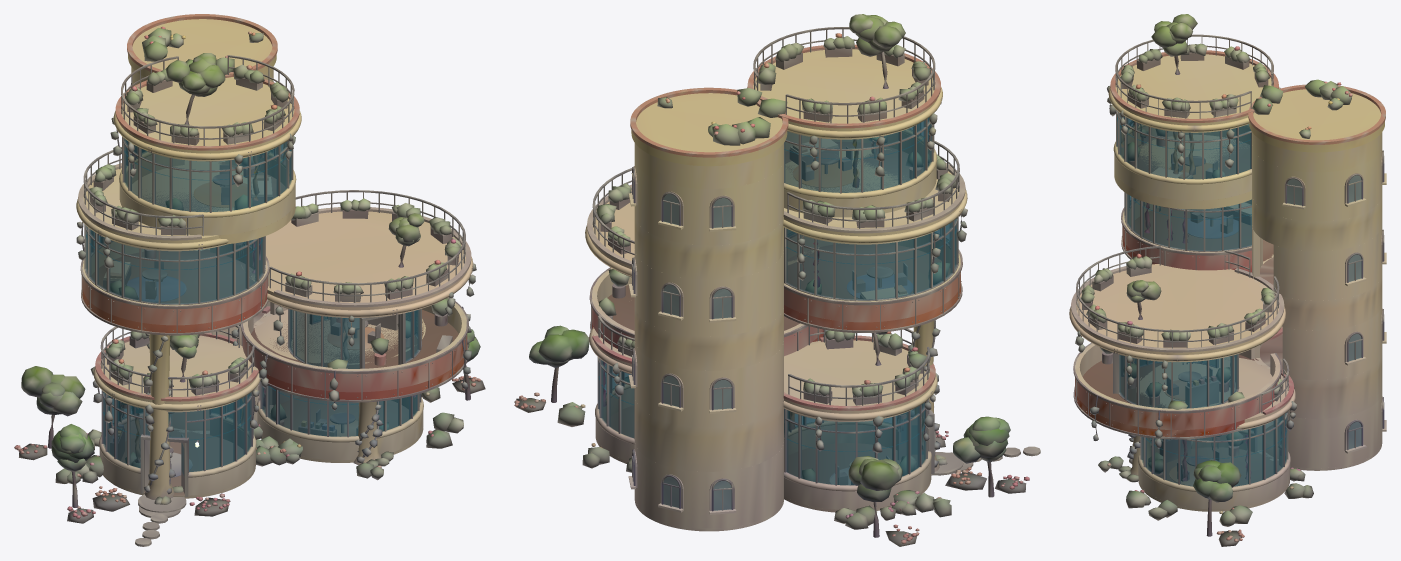
The model's file is ev_cam_kule.glb.
The picture shows the model from 3 angles, left to right: view 1: azimuth 30°, elevation 25°; view 2: azimuth 150°, elevation 25°; view 3: azimuth 270°, elevation 25°; orthographic projection. The views are drawn at different scales.
Visible parts, largest first — view 1: ev_cam_kule_LOD0; view 2: ev_cam_kule_LOD0; view 3: ev_cam_kule_LOD0.
Boxes of the visible parts, box(x1,y1,x2,y2) form: ev_cam_kule_LOD0: box(14, 14, 485, 546); ev_cam_kule_LOD0: box(514, 14, 1040, 546); ev_cam_kule_LOD0: box(1069, 14, 1386, 546).
Size of what is drawn, in the model's own units: 24.49 by 22.38 by 16.34.
